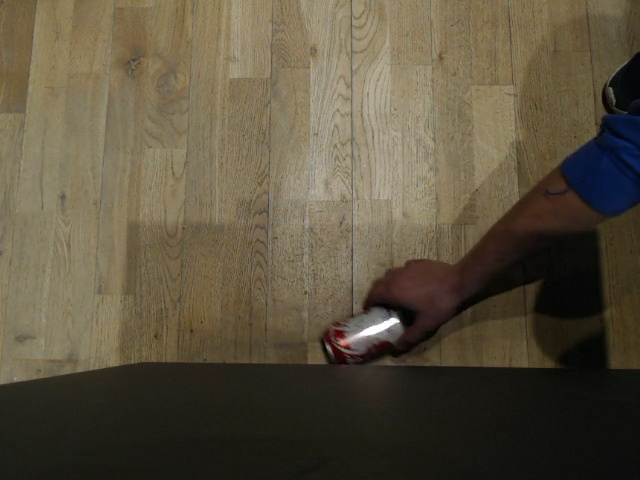cola: (320, 300, 411, 366)
